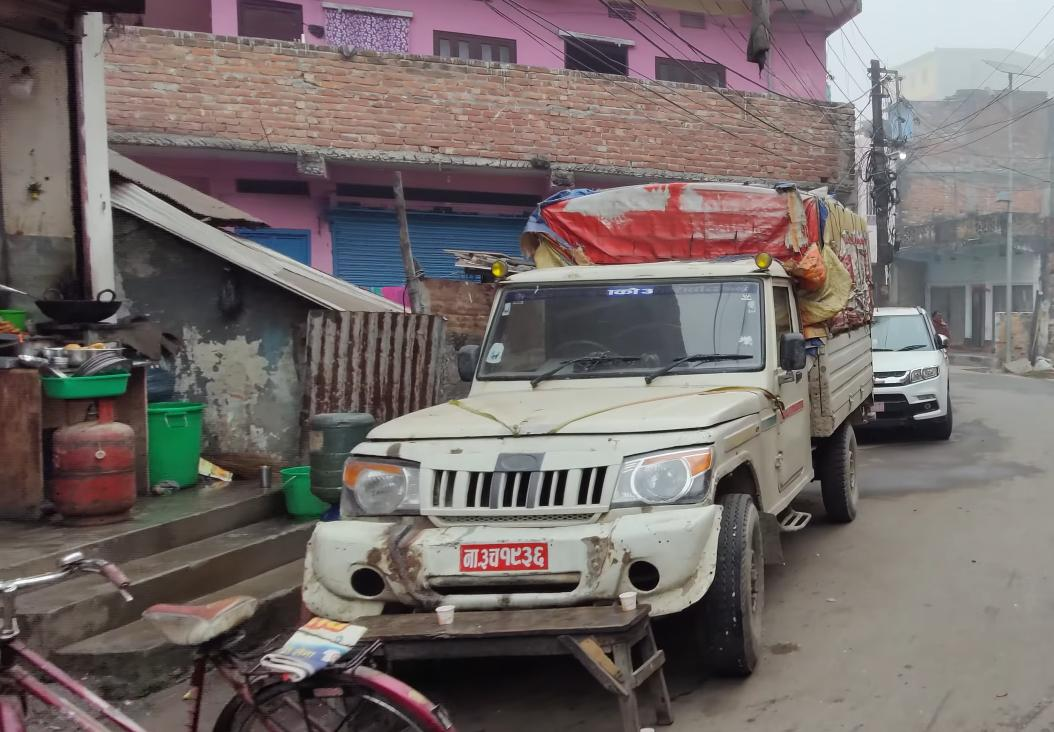car: (857, 285, 972, 449)
transport_vehicle: (288, 173, 877, 681)
